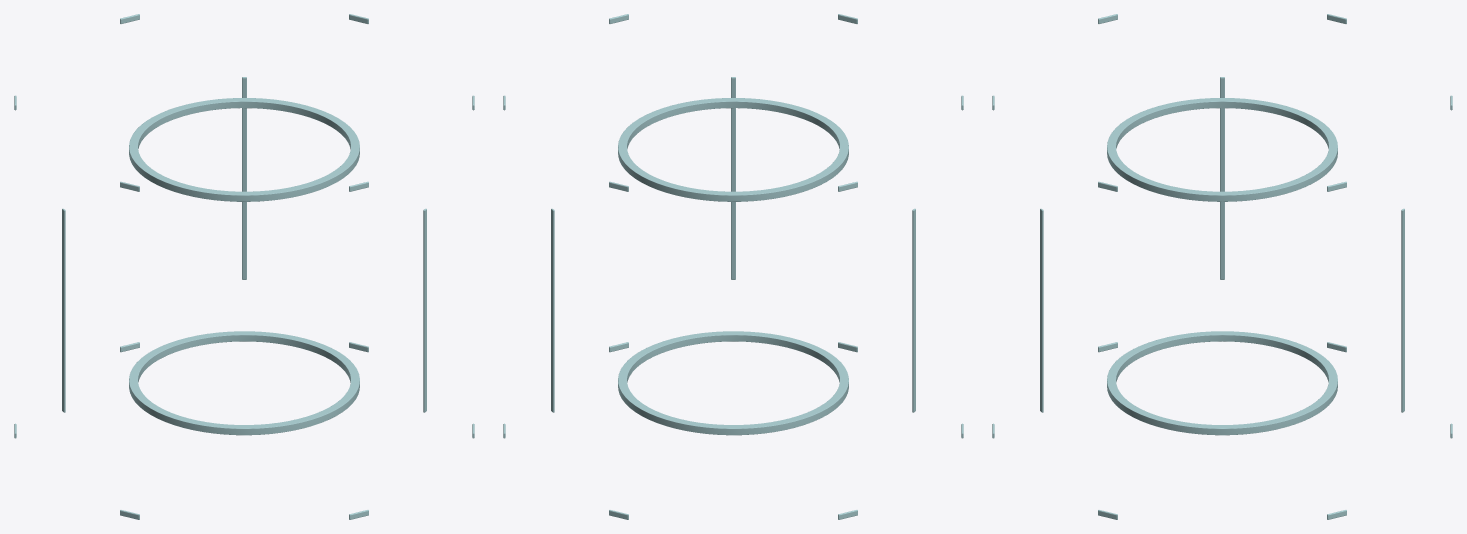
File: CORE_Emitter.fbx
The picture shows the model from 3 angles, left to right: view 1: azimuth 30°, elevation 25°; view 2: azimuth 150°, elevation 25°; view 3: azimuth 270°, elevation 25°; orthographic projection.
Visible parts, largest first — view 1: CORE_Emitter_EXPORT; view 2: CORE_Emitter_EXPORT; view 3: CORE_Emitter_EXPORT.
Boxes of the visible parts, x1,y1,x2,y2 form: CORE_Emitter_EXPORT: (14, 14, 474, 519); CORE_Emitter_EXPORT: (503, 14, 963, 519); CORE_Emitter_EXPORT: (992, 14, 1452, 519).
Size of the model in its own units: 1.88 by 1.67 by 2.09.
